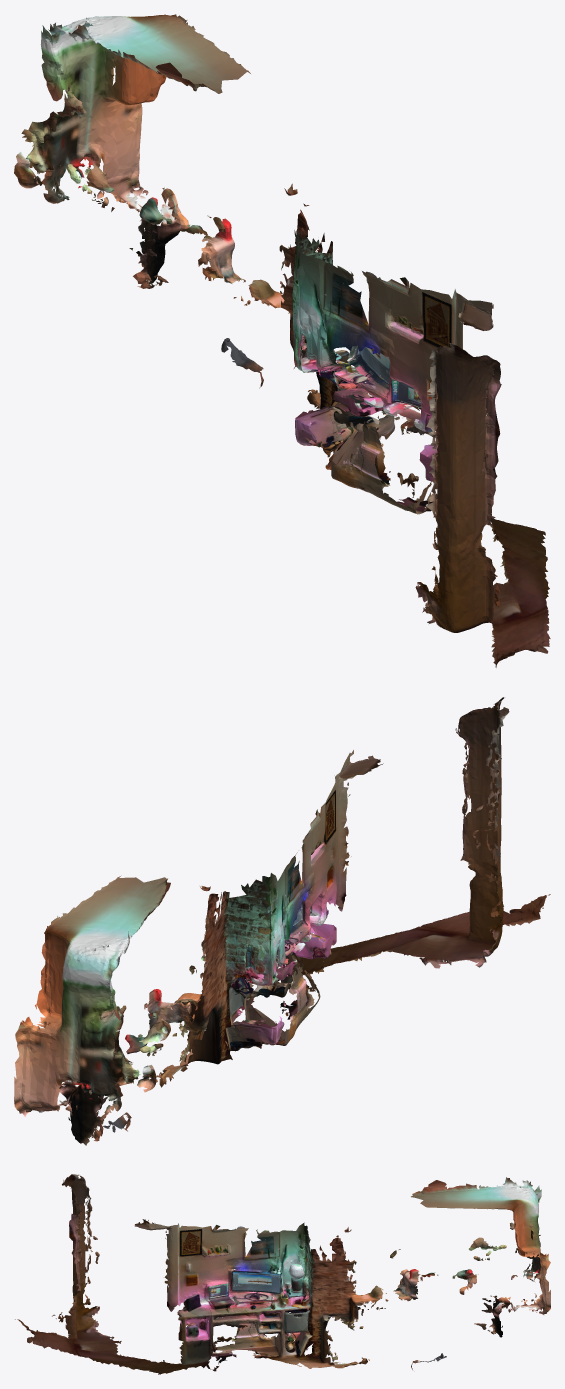
File: metascan_20220326-2136.obj
The picture shows the model from 3 angles, top to bottom: view 1: azimuth 30°, elevation 25°; view 2: azimuth 150°, elevation 25°; view 3: azimuth 270°, elevation 25°; orthographic projection. The views are drawn at different scales.
Visible parts, largest first — view 1: mesh_0, mesh_1; view 2: mesh_0, mesh_1; view 3: mesh_0, mesh_1.
Part boxes in pixels (x1,y1,x2,y2): mesh_0: [14, 17, 550, 667]; mesh_1: [40, 14, 536, 548]; mesh_0: [25, 697, 550, 1145]; mesh_1: [14, 852, 336, 1116]; mesh_0: [15, 1174, 542, 1374]; mesh_1: [152, 1177, 550, 1373].
Size of the model in its own units: 1.64 by 2.72 by 7.59.
Materials: 2 (2 with a texture image).
